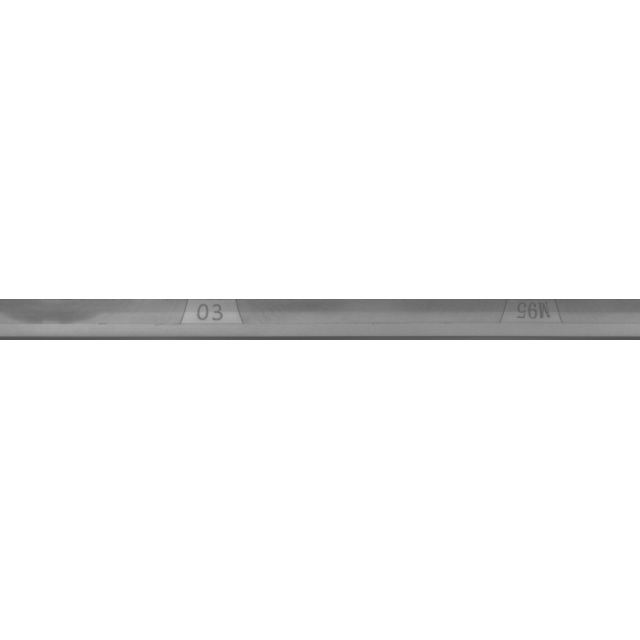mohao: (437, 270, 637, 370)
xuehao: (108, 270, 308, 370)
